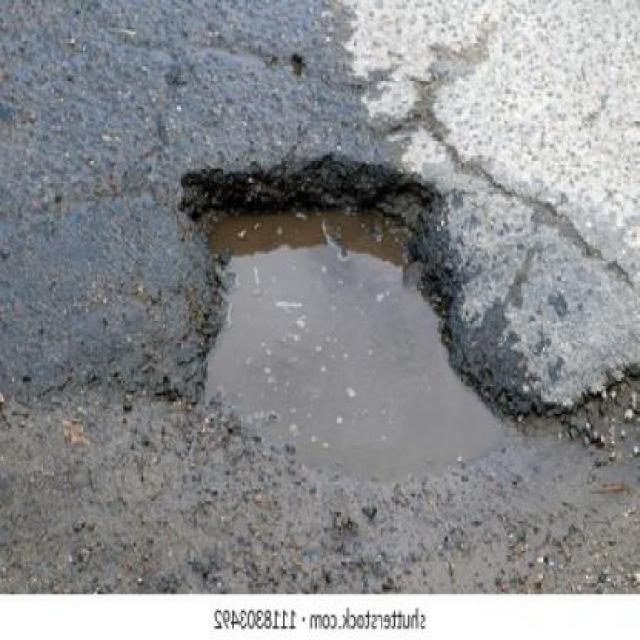pothole: (114, 87, 576, 567)
